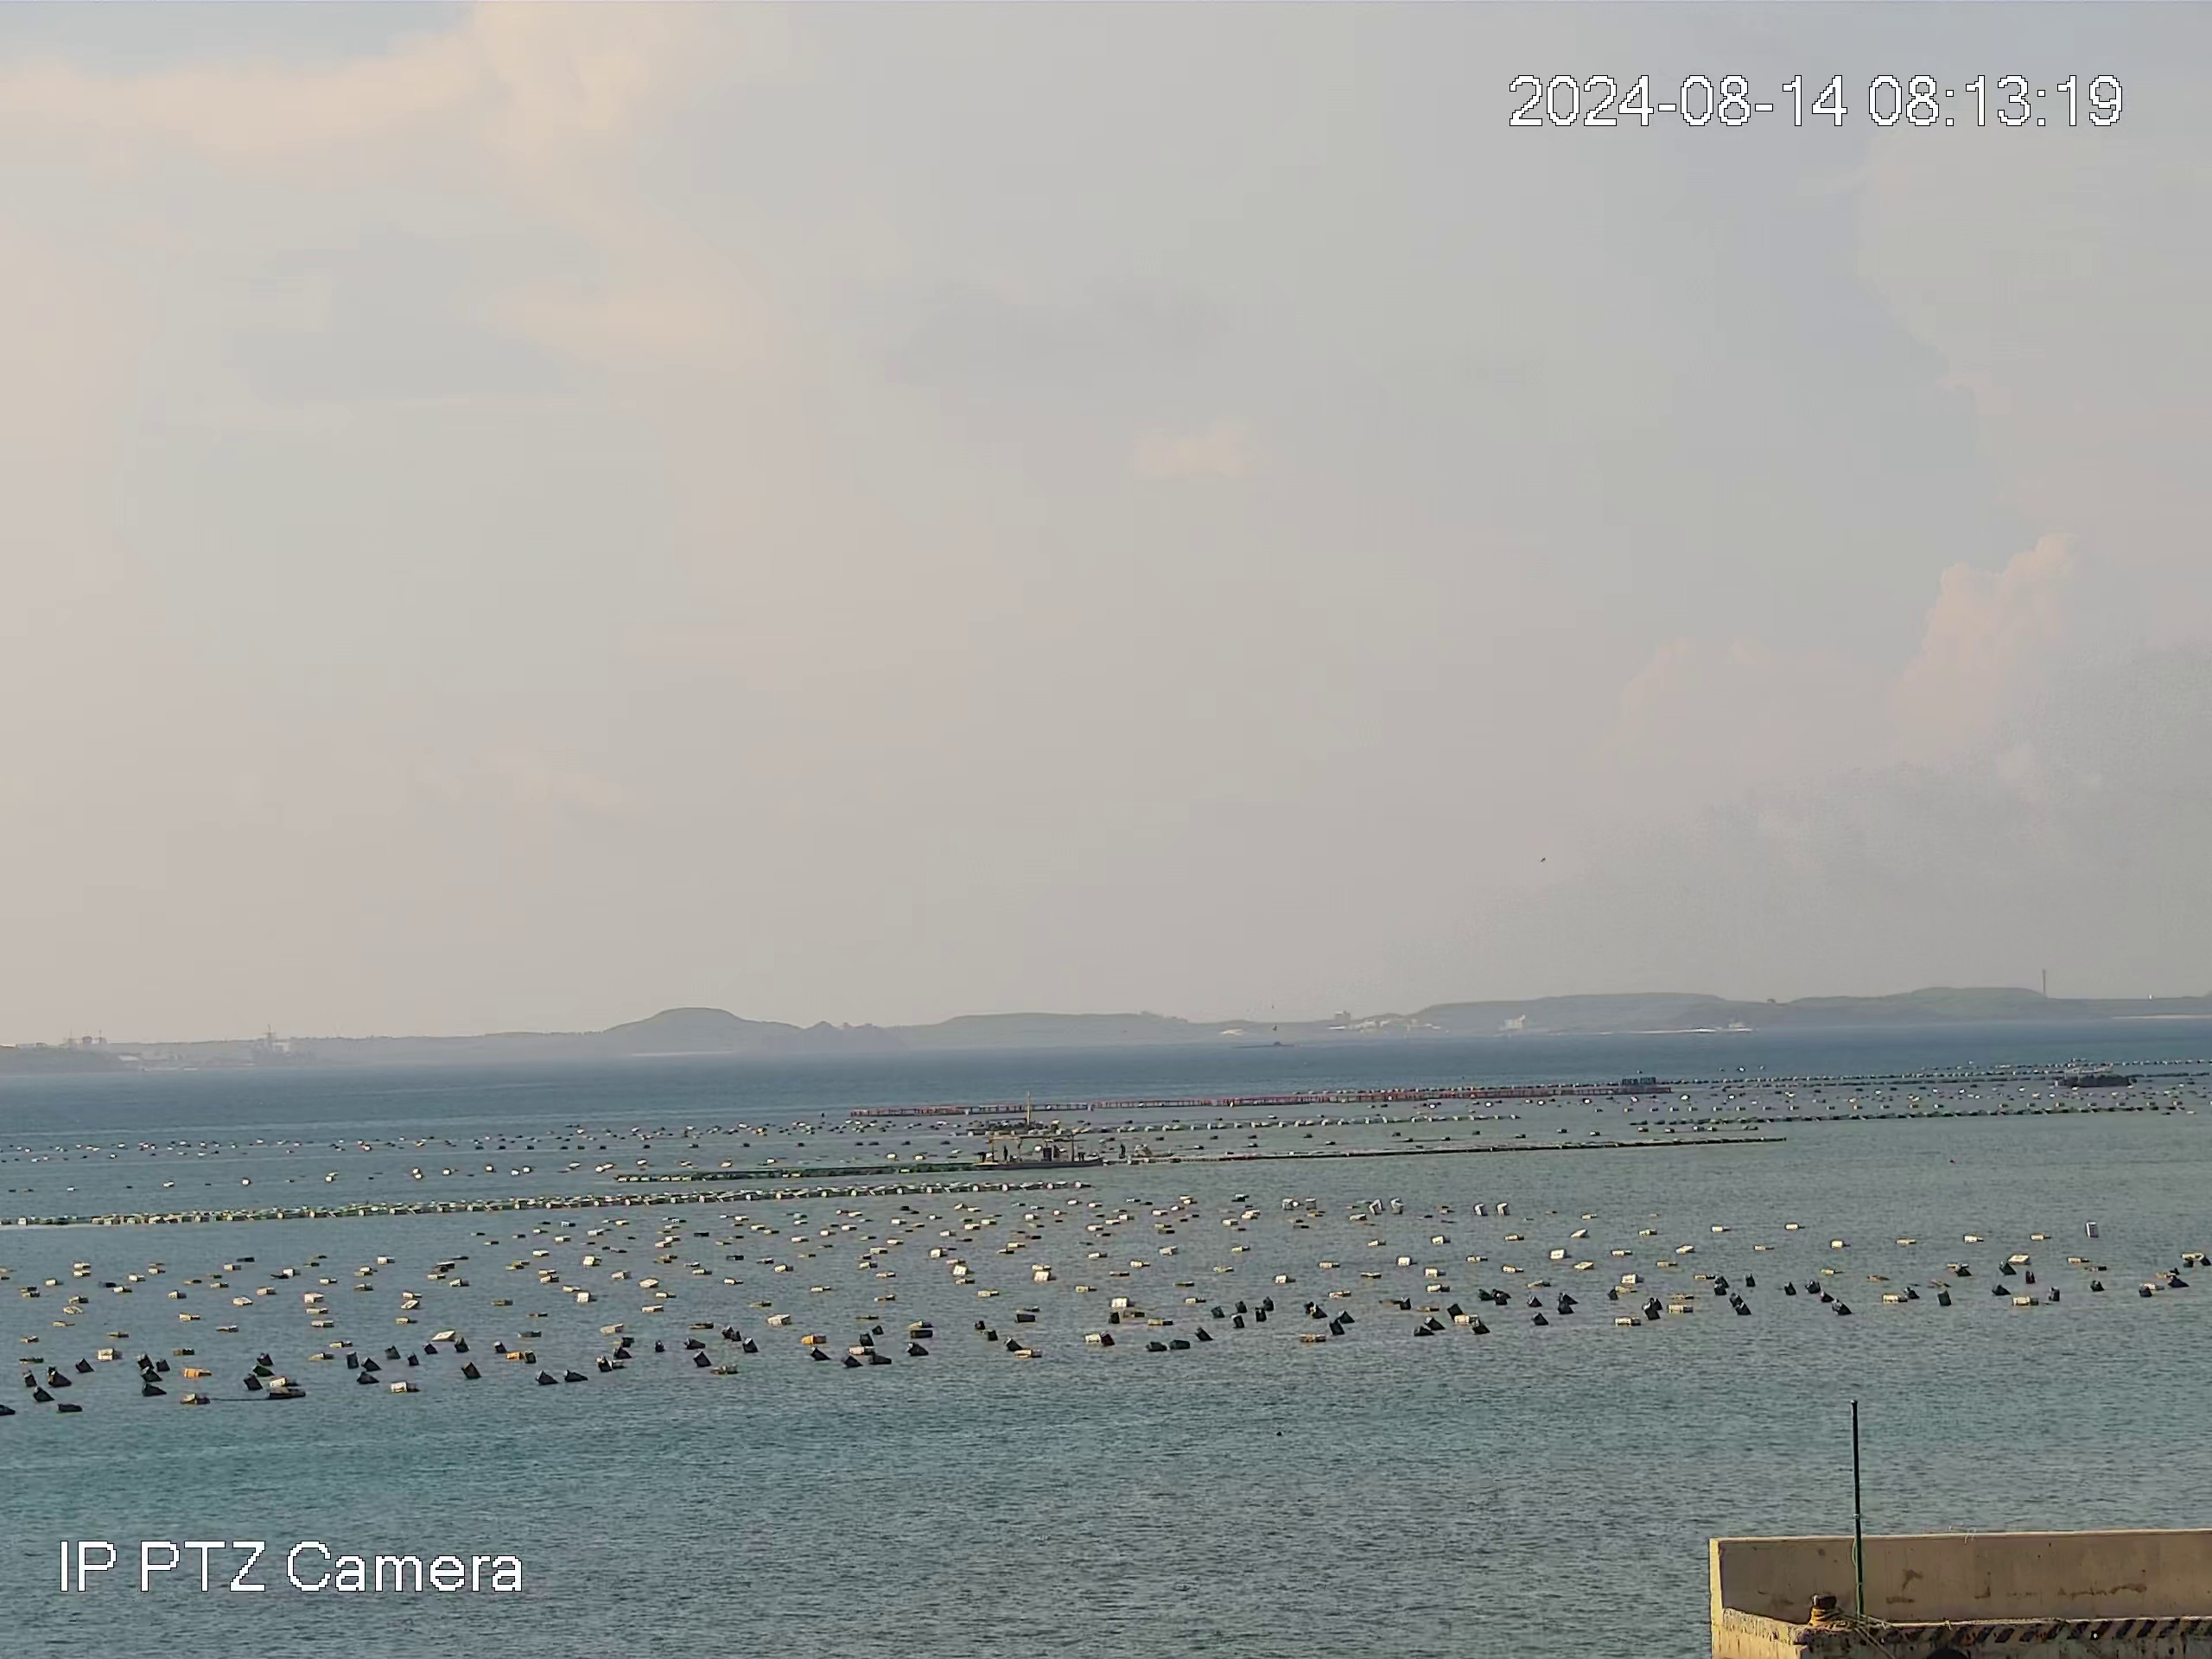boat: (977, 1127, 1103, 1170), (2052, 1064, 2133, 1091)
